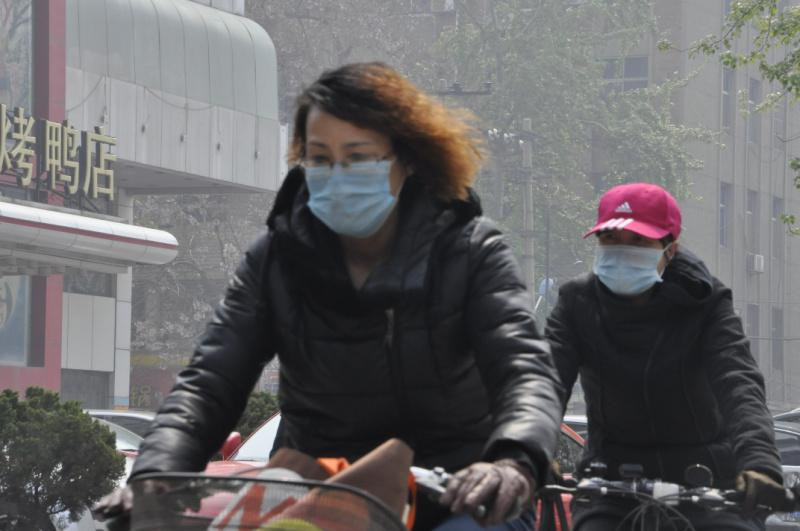OK: (301, 137, 397, 238), (596, 230, 665, 295)
